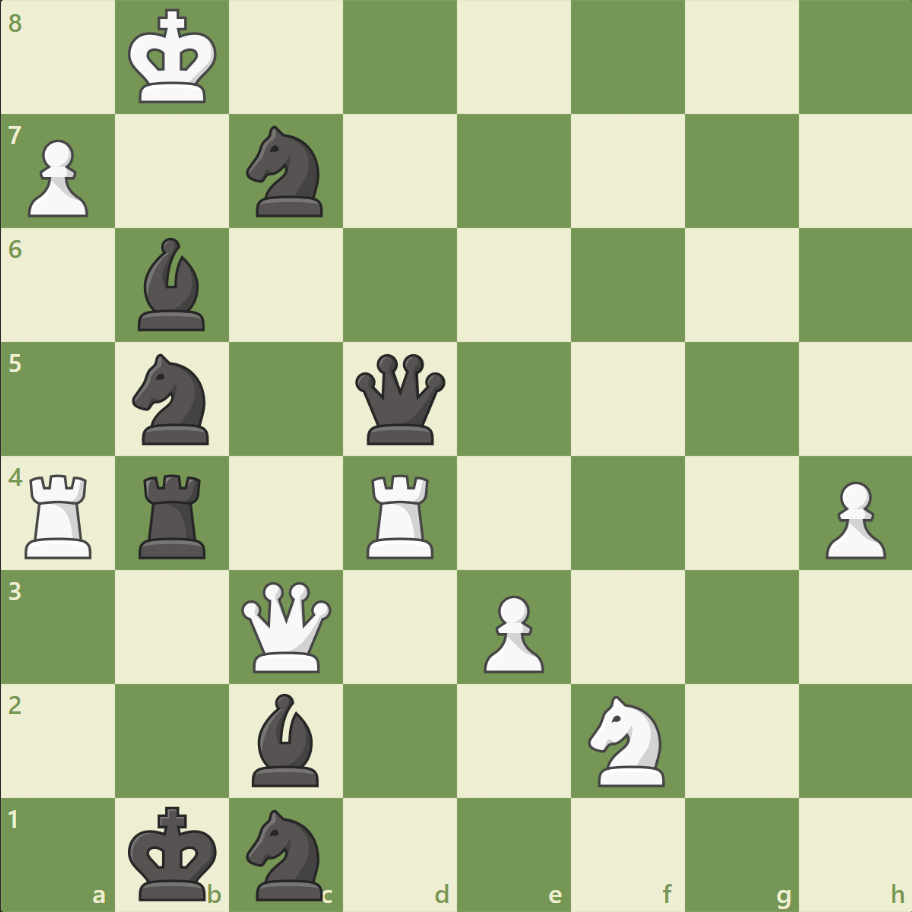K: (124, 4, 224, 112)
N: (579, 688, 676, 791)
P: (20, 132, 95, 223), (474, 586, 549, 677), (815, 473, 889, 564)
Q: (237, 576, 336, 676)
R: (19, 466, 102, 563), (360, 466, 442, 563)
b: (131, 233, 215, 336), (244, 687, 328, 790)
k: (124, 798, 224, 906)
n: (124, 348, 222, 450), (238, 121, 335, 223), (238, 802, 335, 904)
q: (351, 349, 450, 449)
r: (133, 466, 215, 563)
